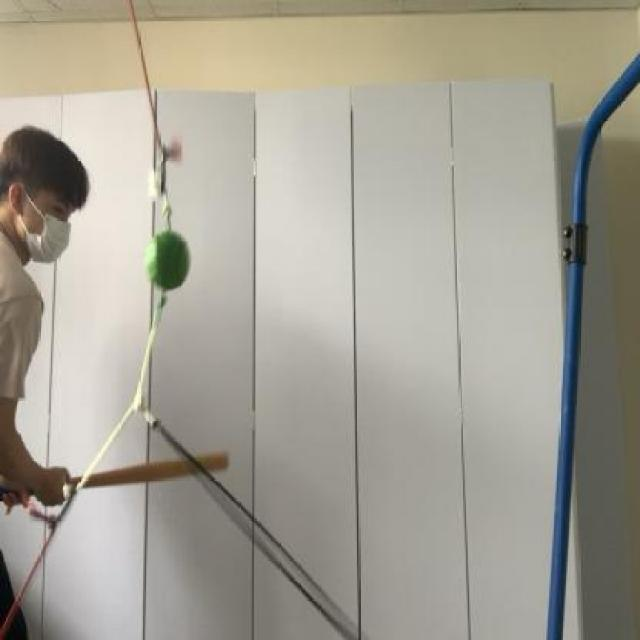baseball: (145, 219, 192, 293)
